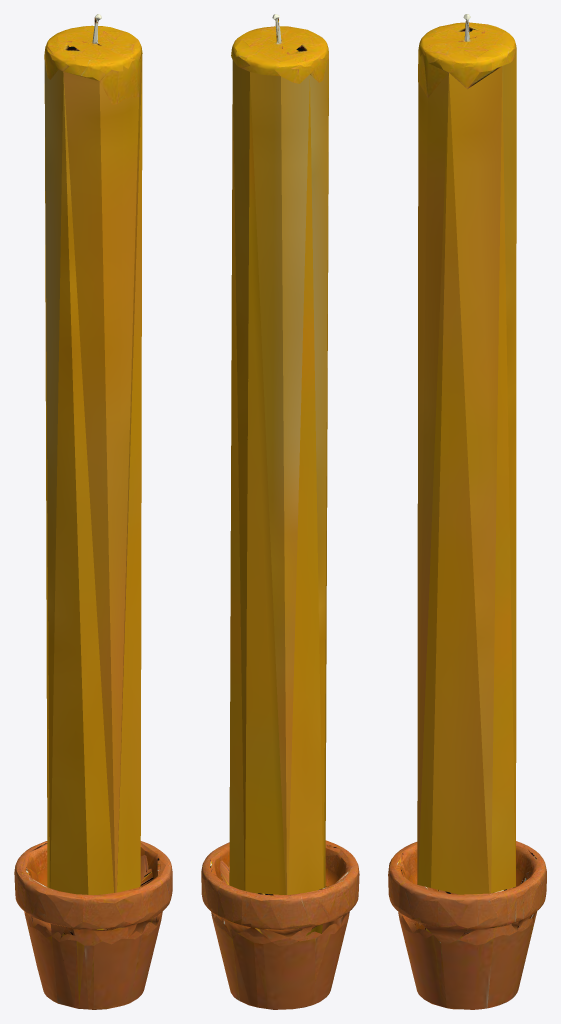
File: w3candlemid.glb
The picture shows the model from 3 angles, left to right: view 1: azimuth 30°, elevation 25°; view 2: azimuth 150°, elevation 25°; view 3: azimuth 270°, elevation 25°; orthographic projection.
Visible parts, largest first — view 1: w3candlemid_near, w3candlemid_far; view 2: w3candlemid_near, w3candlemid_far; view 3: w3candlemid_near, w3candlemid_far.
Part boxes in pixels (left/top/right/bottom): w3candlemid_near: left=14, top=14, right=172, bottom=1009; w3candlemid_far: left=20, top=17, right=161, bottom=1004; w3candlemid_near: left=201, top=14, right=359, bottom=1009; w3candlemid_far: left=202, top=17, right=353, bottom=1009; w3candlemid_near: left=388, top=14, right=546, bottom=1009; w3candlemid_far: left=394, top=21, right=541, bottom=954.
Bounding box in the file's own units: 0.0972 × 0.66 × 0.0972.
Materials: 1 (1 with a texture image).
